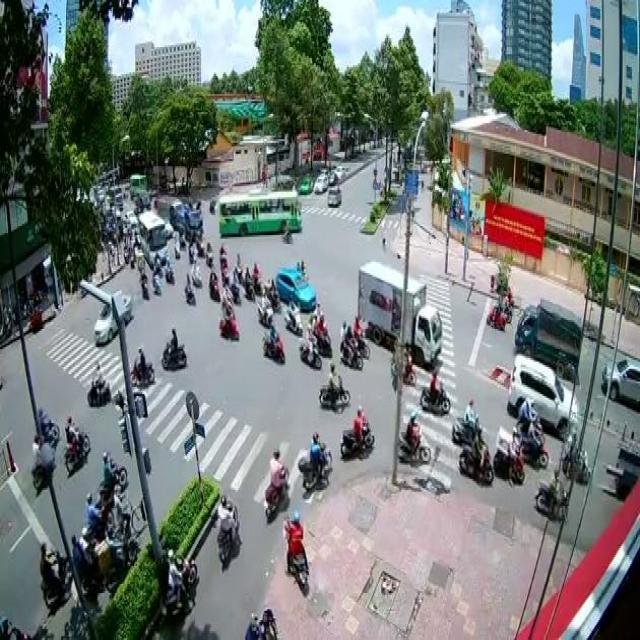bicycle: (112, 481, 145, 540)
bus: (216, 190, 301, 231), (137, 208, 169, 266)
car: (507, 352, 577, 438), (93, 291, 132, 345), (600, 356, 640, 407), (274, 264, 316, 311)
motorcycle: (158, 548, 197, 624), (96, 526, 137, 593), (38, 541, 72, 609), (295, 427, 331, 490), (282, 512, 308, 598), (337, 403, 375, 461), (458, 423, 493, 485), (262, 445, 290, 519), (217, 492, 241, 569), (396, 407, 430, 461), (79, 490, 114, 541), (496, 422, 523, 486), (62, 414, 89, 472), (451, 394, 481, 445), (317, 359, 348, 408), (336, 318, 363, 371), (97, 450, 126, 497), (28, 432, 51, 490), (419, 369, 449, 412), (260, 318, 286, 367), (158, 324, 186, 368), (85, 359, 110, 408), (297, 320, 320, 369), (34, 401, 59, 441), (129, 347, 154, 385), (216, 300, 238, 342), (283, 291, 303, 336), (350, 311, 368, 360), (485, 294, 505, 332), (255, 288, 272, 324), (208, 268, 220, 304), (243, 266, 255, 300), (183, 272, 194, 308), (189, 257, 200, 287), (206, 237, 214, 267)
truck: (356, 258, 441, 369), (513, 294, 581, 380)
